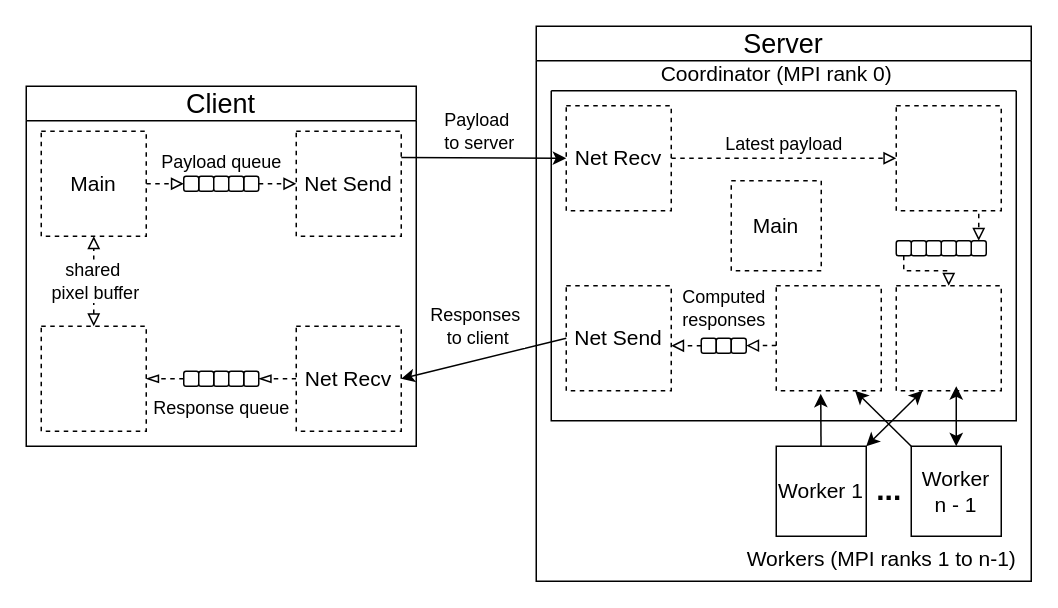
Some shapes in this 1058 by 608 pixel diagram are drawn without their labels. The centre of each missing label's shape, as x and y in pixels:
Discretize payloads: the point at 948,157
MPI Recv: the point at 828,337
MPI Send: the point at 948,337
Process Response: the point at 93,378
